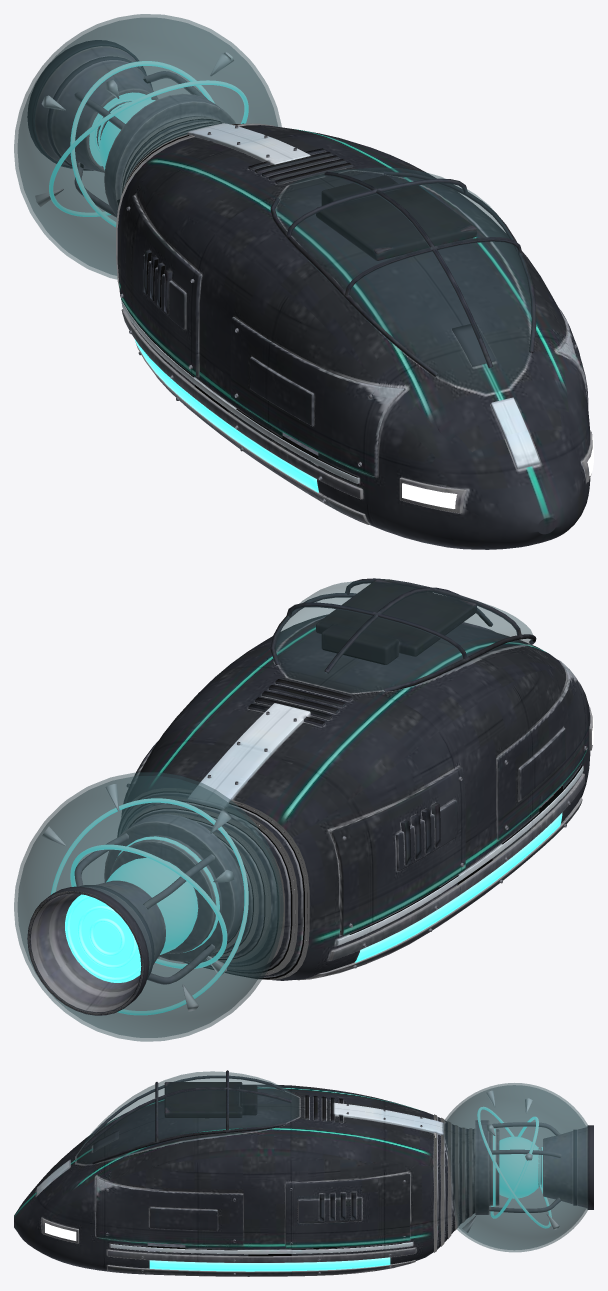
File: comet.glb
The picture shows the model from 3 angles, top to bottom: view 1: azimuth 30°, elevation 25°; view 2: azimuth 150°, elevation 25°; view 3: azimuth 270°, elevation 25°; orthographic projection. The views are drawn at different scales.
Visible parts, largest first — view 1: comet_body, ball_glass, canopy, comet_emissive, spin_ring2, spin_ring1; view 2: comet_body, ball_glass, canopy, comet_emissive, spin_ring2, spin_ring1; view 3: comet_body, ball_glass, canopy, comet_emissive, spin_ring2, spin_ring1.
Part boxes in pixels (box(x1,y1,x2,y2)): comet_body: box(27, 40, 592, 549); ball_glass: box(14, 14, 281, 279); canopy: box(274, 167, 532, 393); comet_emissive: box(89, 92, 593, 508); spin_ring2: box(49, 80, 248, 216); spin_ring1: box(70, 61, 214, 226); comet_body: box(27, 578, 592, 1015); ball_glass: box(14, 772, 283, 1041); canopy: box(274, 580, 532, 692); comet_emissive: box(65, 709, 593, 982); spin_ring2: box(51, 798, 248, 1015); spin_ring1: box(70, 844, 227, 968); comet_body: box(14, 1070, 593, 1276); ball_glass: box(442, 1083, 588, 1252); canopy: box(76, 1071, 299, 1164); comet_emissive: box(45, 1128, 542, 1271); spin_ring2: box(477, 1106, 551, 1228); spin_ring1: box(490, 1116, 538, 1218).
Bounding box in the file's own units: 1.41 × 1.24 × 4.1.
6 materials, 2 textured.
